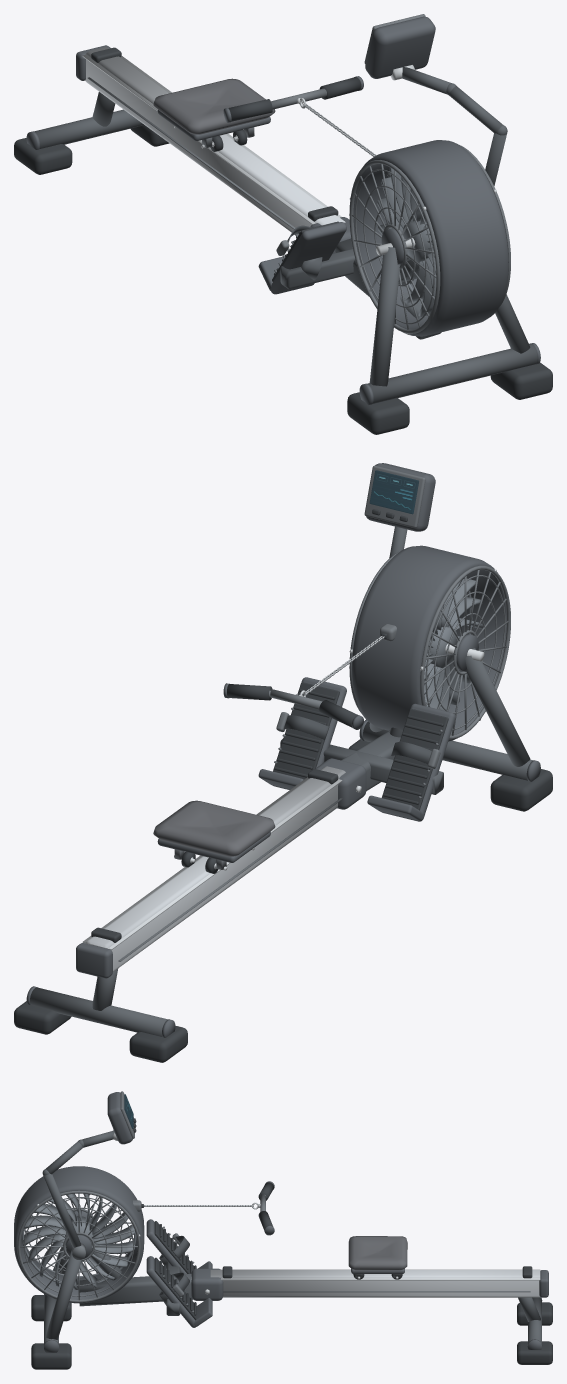
File: indoor_rowing_machine.glb
3 views of the same model, one above another, from view 1: azimuth 30°, elevation 25°; view 2: azimuth 150°, elevation 25°; view 3: azimuth 270°, elevation 25° (orthographic). The views are drawn at different scales.
Parts seen in each view (by area): view 1: FlywheelHousing_Plastic, Rail_Aluminum, FrontSupport_Frame, FlywheelHousing_Arm, SlidingSeat_Padding, FrontSupport_Rubber, Flywheel_Fan, PerformanceMonitor_Plastic, RearSupport_Frame, LeftFootplate_Plastic, MainFrame_Frame, MonitorArm_Frame (+6 smaller); view 2: FlywheelHousing_Plastic, Rail_Aluminum, FlywheelHousing_Arm, SlidingSeat_Padding, FrontSupport_Frame, RearSupport_Frame, LeftFootplate_Rubber, Flywheel_Fan, RightFootplate_Rubber, RearSupport_Rubber, MainFrame_Frame, FrontSupport_Rubber (+10 smaller); view 3: Rail_Aluminum, FlywheelHousing_Plastic, Flywheel_Fan, FlywheelHousing_Arm, MainFrame_Frame, SlidingSeat_Padding, FrontSupport_Frame, MonitorArm_Frame, FrontSupport_Rubber, Rail_Chrome, RearSupport_Rubber, RightFootplate_Plastic (+7 smaller).
Boxes of the visible parts, x1=… form: FlywheelHousing_Plastic: x1=353, y1=140, x2=508, y2=336; Rail_Aluminum: x1=85, y1=47, x2=345, y2=235; FrontSupport_Frame: x1=367, y1=247, x2=537, y2=403; FlywheelHousing_Arm: x1=349, y1=145, x2=510, y2=333; SlidingSeat_Padding: x1=153, y1=78, x2=275, y2=134; FrontSupport_Rubber: x1=347, y1=362, x2=552, y2=434; Flywheel_Fan: x1=377, y1=167, x2=436, y2=316; PerformanceMonitor_Plastic: x1=365, y1=16, x2=435, y2=78; RearSupport_Frame: x1=34, y1=92, x2=143, y2=148; LeftFootplate_Plastic: x1=258, y1=222, x2=346, y2=294; MainFrame_Frame: x1=280, y1=238, x2=441, y2=339; MonitorArm_Frame: x1=402, y1=67, x2=507, y2=185; FlywheelHousing_Plastic: x1=351, y1=545, x2=506, y2=741; Rail_Aluminum: x1=86, y1=766, x2=345, y2=971; FlywheelHousing_Arm: x1=349, y1=550, x2=510, y2=739; SlidingSeat_Padding: x1=153, y1=800, x2=275, y2=856; FrontSupport_Frame: x1=363, y1=648, x2=532, y2=780; RearSupport_Frame: x1=30, y1=968, x2=167, y2=1036; LeftFootplate_Rubber: x1=381, y1=708, x2=448, y2=810; Flywheel_Fan: x1=424, y1=577, x2=483, y2=710; RightFootplate_Rubber: x1=273, y1=682, x2=339, y2=779; RearSupport_Rubber: x1=14, y1=1001, x2=187, y2=1062; MainFrame_Frame: x1=280, y1=665, x2=443, y2=794; FrontSupport_Rubber: x1=348, y1=739, x2=552, y2=811; Rail_Aluminum: x1=210, y1=1270, x2=540, y2=1297; FlywheelHousing_Plastic: x1=14, y1=1166, x2=144, y2=1303; Flywheel_Fan: x1=21, y1=1193, x2=136, y2=1289; FlywheelHousing_Arm: x1=17, y1=1190, x2=141, y2=1302; MainFrame_Frame: x1=79, y1=1244, x2=192, y2=1315; SlidingSeat_Padding: x1=348, y1=1236, x2=407, y2=1270; FrontSupport_Frame: x1=44, y1=1249, x2=81, y2=1344; MonitorArm_Frame: x1=42, y1=1130, x2=114, y2=1248; FrontSupport_Rubber: x1=31, y1=1295, x2=71, y2=1369; Rail_Chrome: x1=221, y1=1269, x2=540, y2=1280; RearSupport_Rubber: x1=517, y1=1302, x2=552, y2=1364; RightFootplate_Plastic: x1=146, y1=1256, x2=212, y2=1327.
Size of the model in its own units: 0.685 by 1.25 by 2.54.
10 materials, 1 textured.
